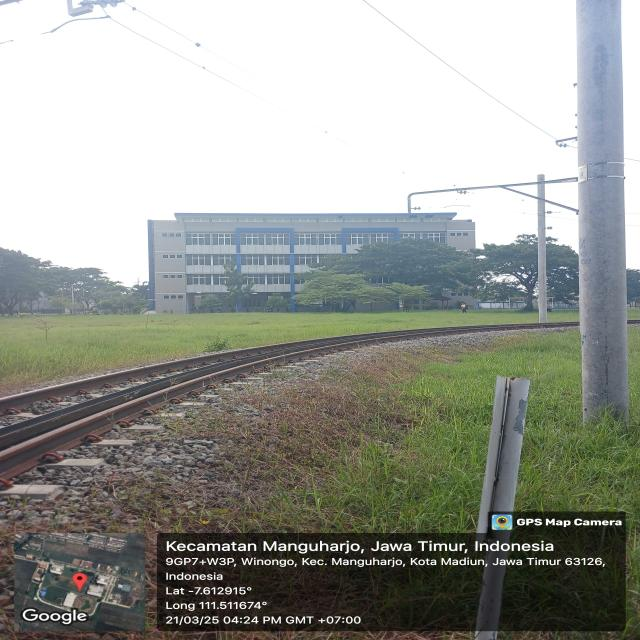rail-detection: (0, 323, 579, 489)
